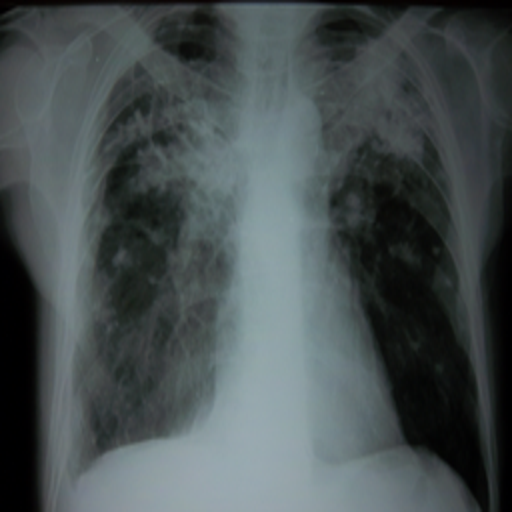TB: (94, 96, 221, 287), (329, 48, 431, 217)
